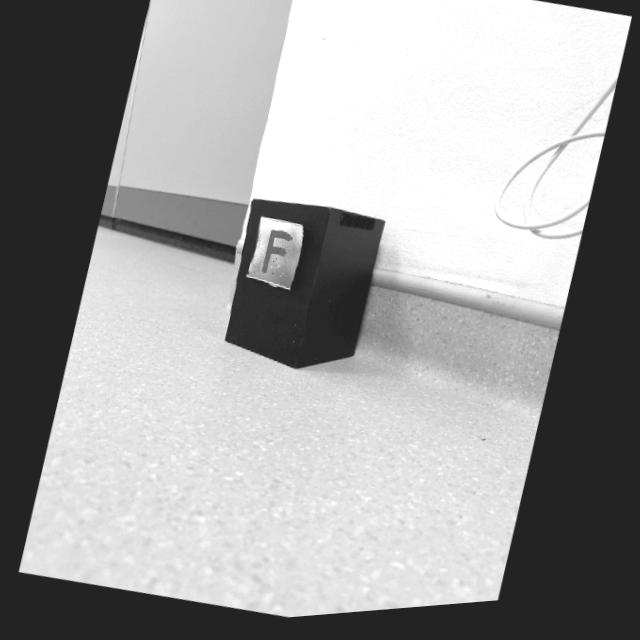F: (261, 234, 290, 278)
